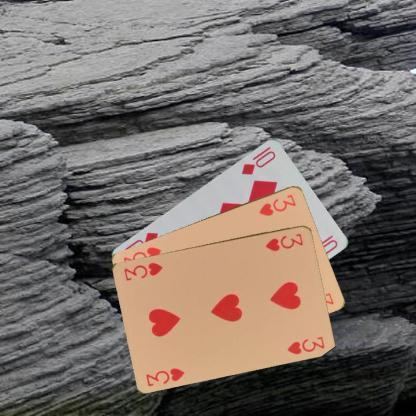10d: (239, 144, 277, 176)
3h: (256, 191, 298, 217), (143, 364, 186, 388), (262, 230, 304, 252)
